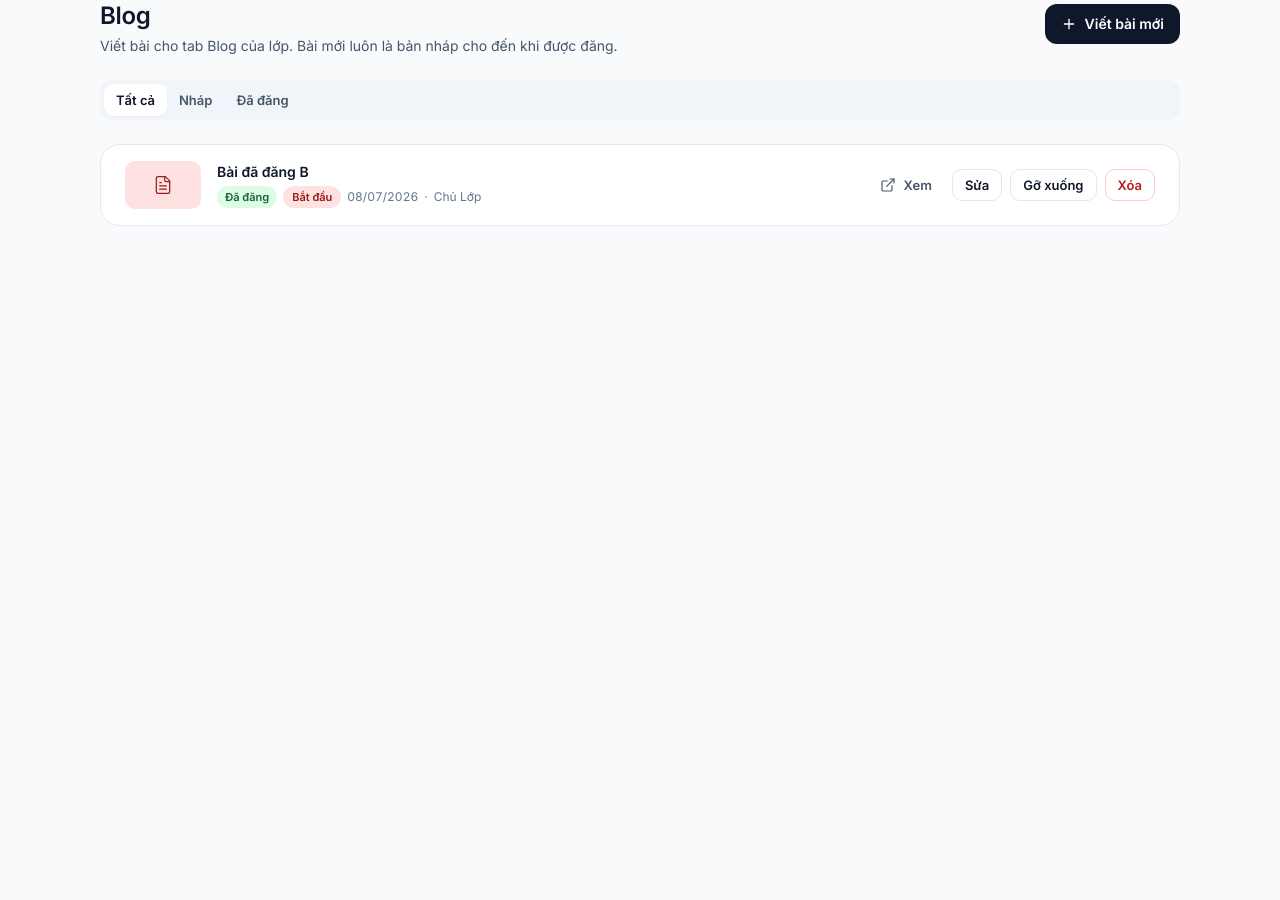
Test: StudioBlog › deletes only after confirming
The width and height of the screenshot is (1280, 900).
Click the button with aria-label "Xóa bài Bài đã đăng B" at (1130, 185), box x1=1104 y1=169 x2=1155 y2=201
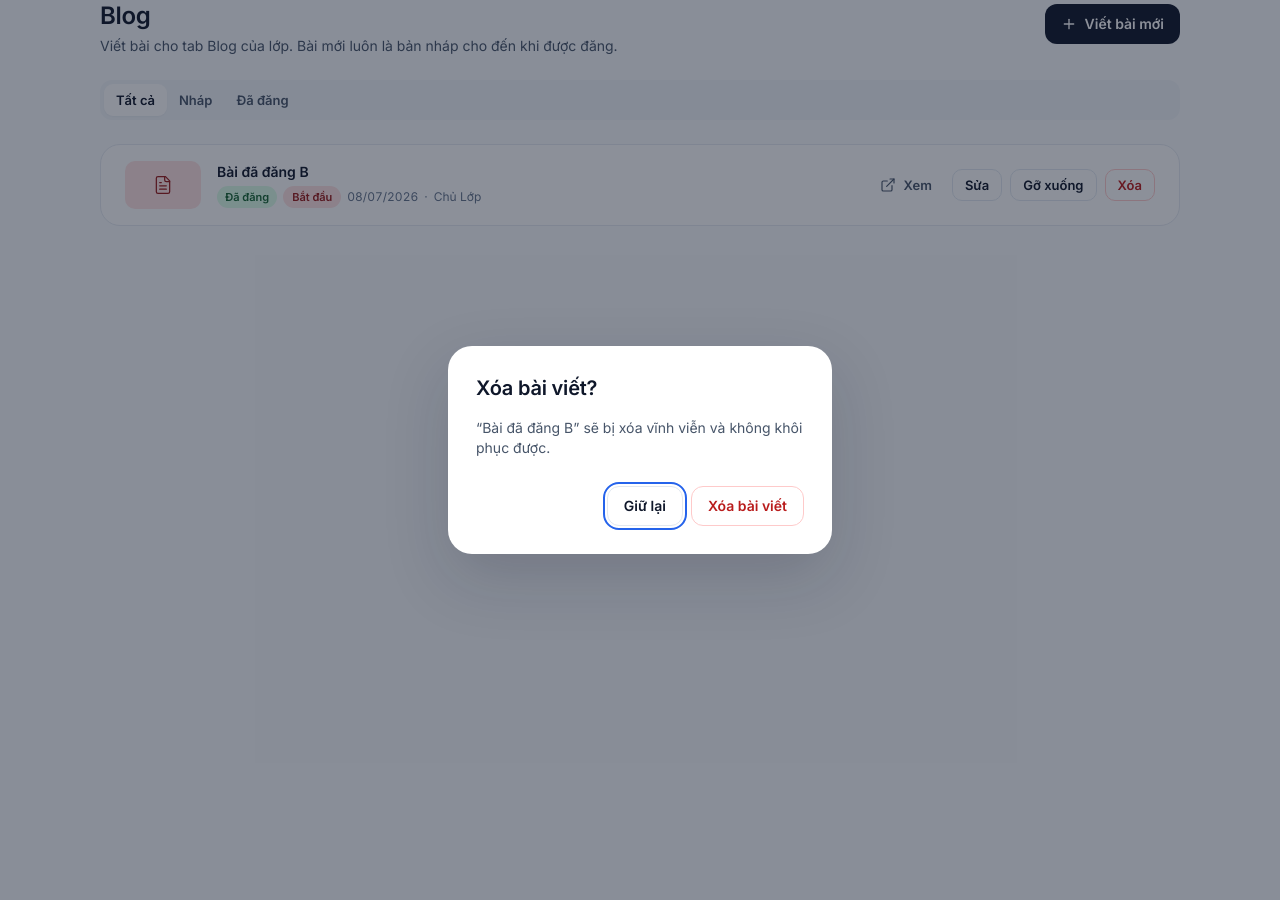
Click the button "Xóa bài viết" at (747, 506), box x1=691 y1=486 x2=804 y2=526
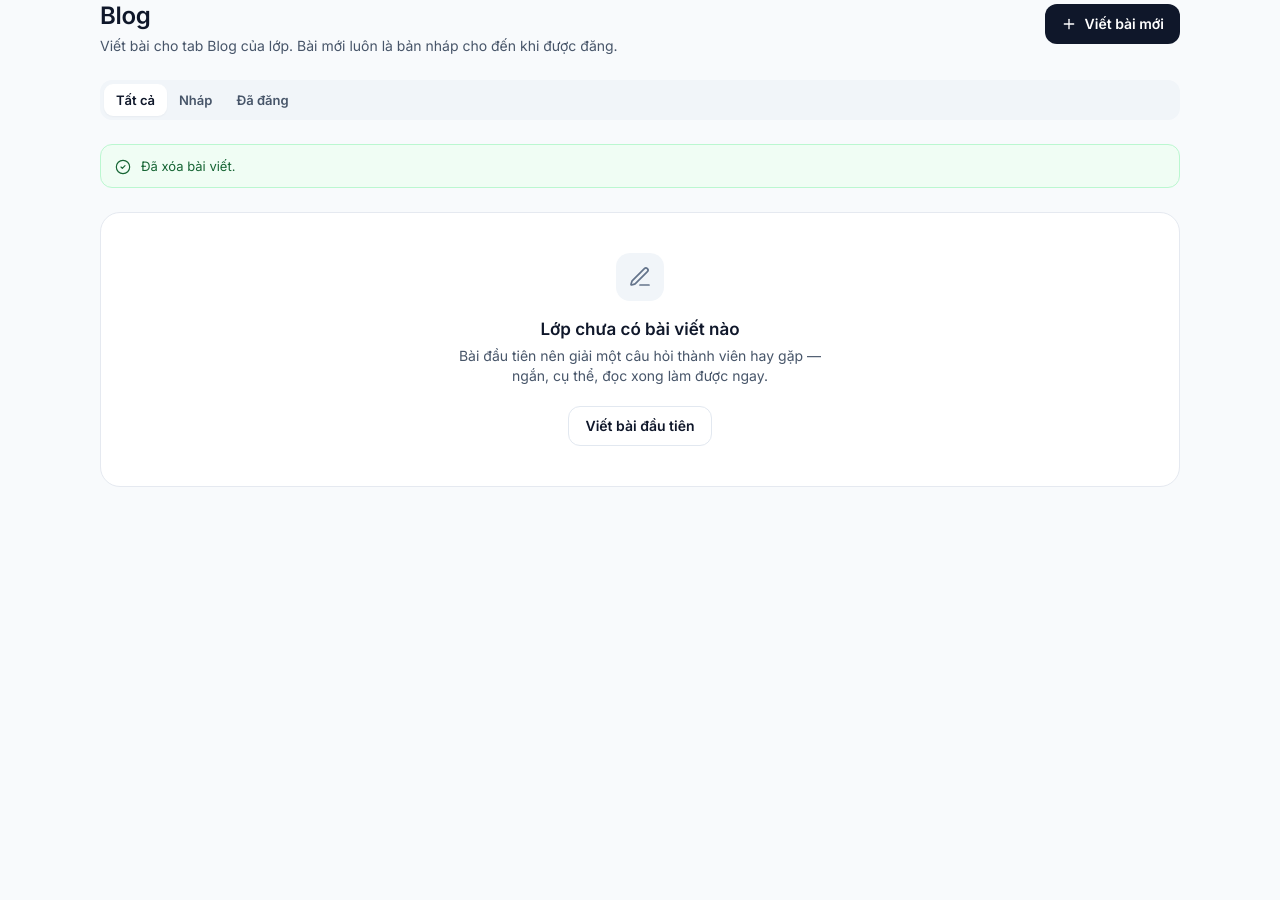
Result: the text "Bài đã đăng B" is gone
